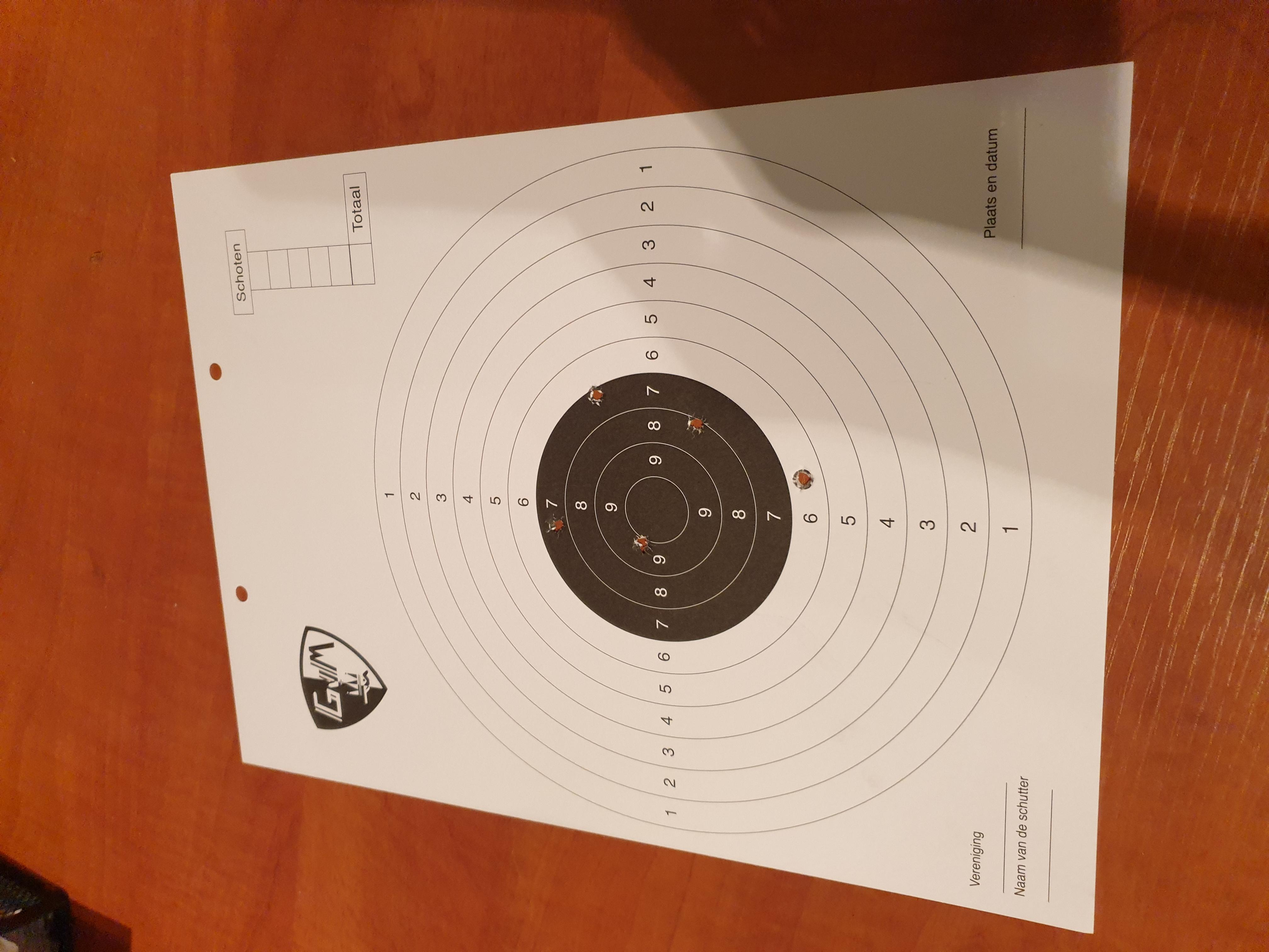hole: (612, 594, 647, 611), (689, 514, 722, 532), (550, 409, 584, 425), (530, 472, 556, 490), (727, 440, 758, 455)
